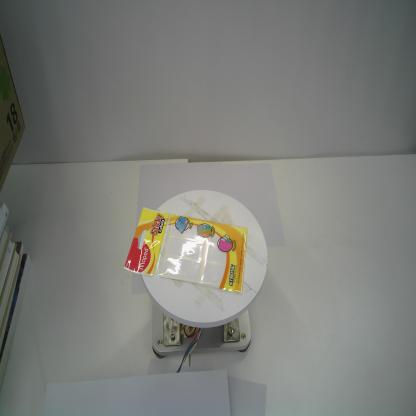Stationery: (122, 204, 249, 296)
